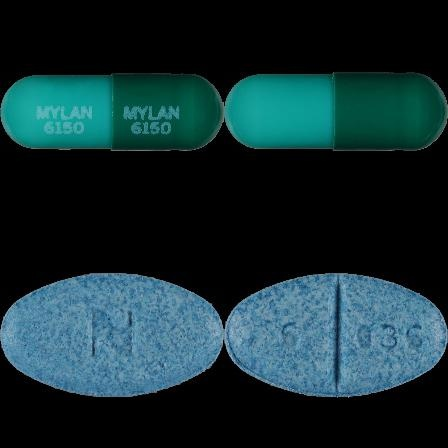66336-706: (0, 0, 224, 224)
